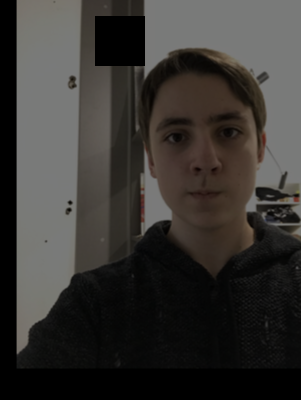without_mask: (151, 103, 257, 231)
